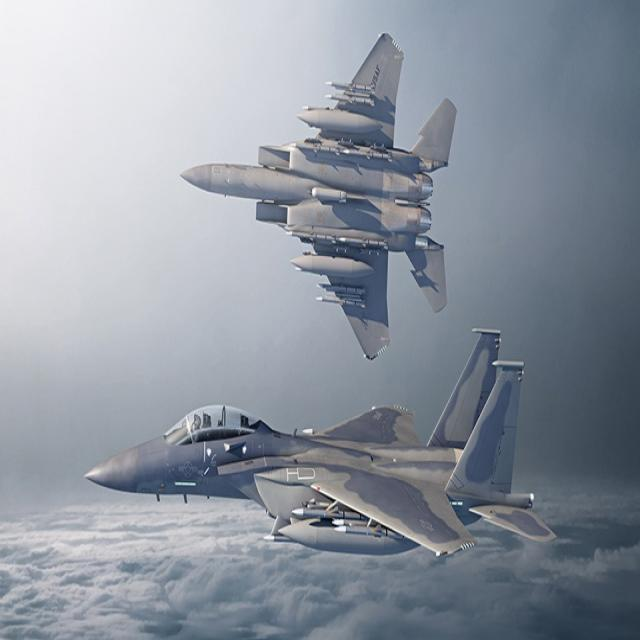F15: (62, 324, 560, 610), (169, 7, 502, 373)
